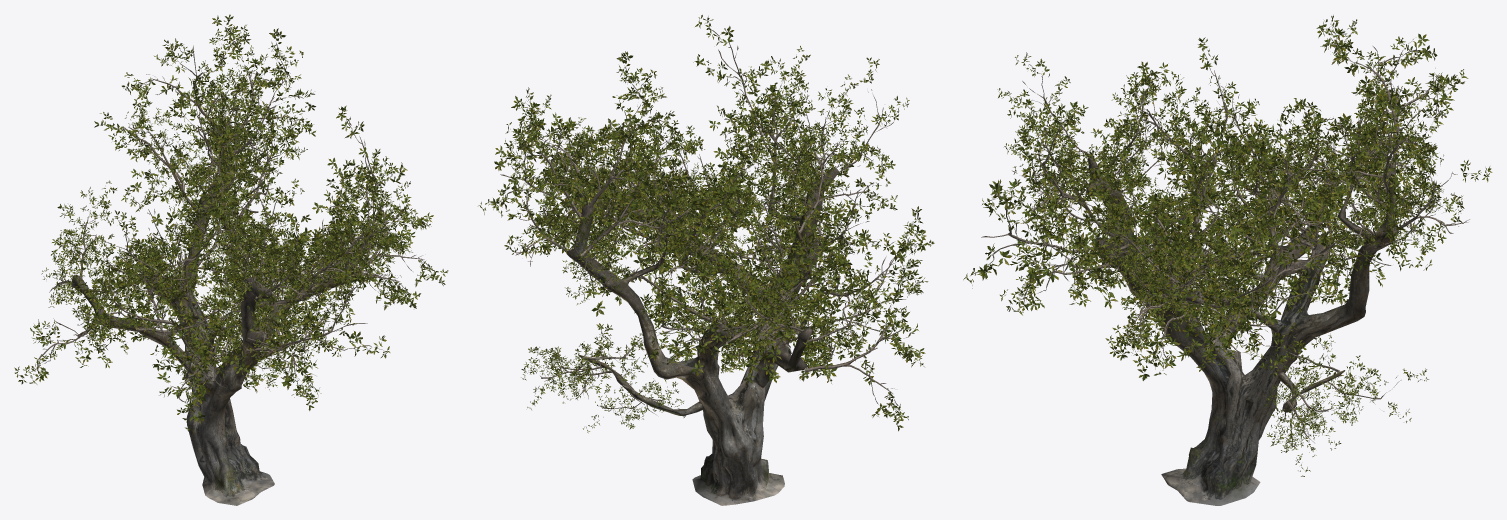
Rendered from tree-refined.glb.
3 renders of one model, left to right at view 1: azimuth 30°, elevation 25°; view 2: azimuth 150°, elevation 25°; view 3: azimuth 270°, elevation 25°, orthographic. The views are drawn at different scales.
Visible parts, largest first — view 1: island_tree_01_LOD0; view 2: island_tree_01_LOD0; view 3: island_tree_01_LOD0.
Boxes of the visible parts, x1,y1,x2,y2 form: island_tree_01_LOD0: [14, 14, 448, 505]; island_tree_01_LOD0: [478, 15, 934, 505]; island_tree_01_LOD0: [963, 15, 1492, 505].
Size of the model in its own units: 4.76 by 5.02 by 4.82.
3 materials, 3 textured.
